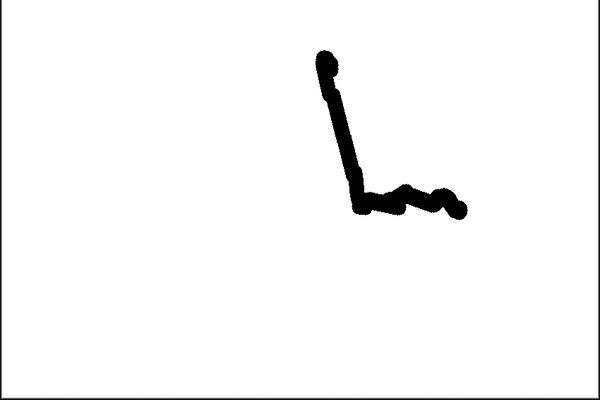L: (309, 42, 472, 228)
